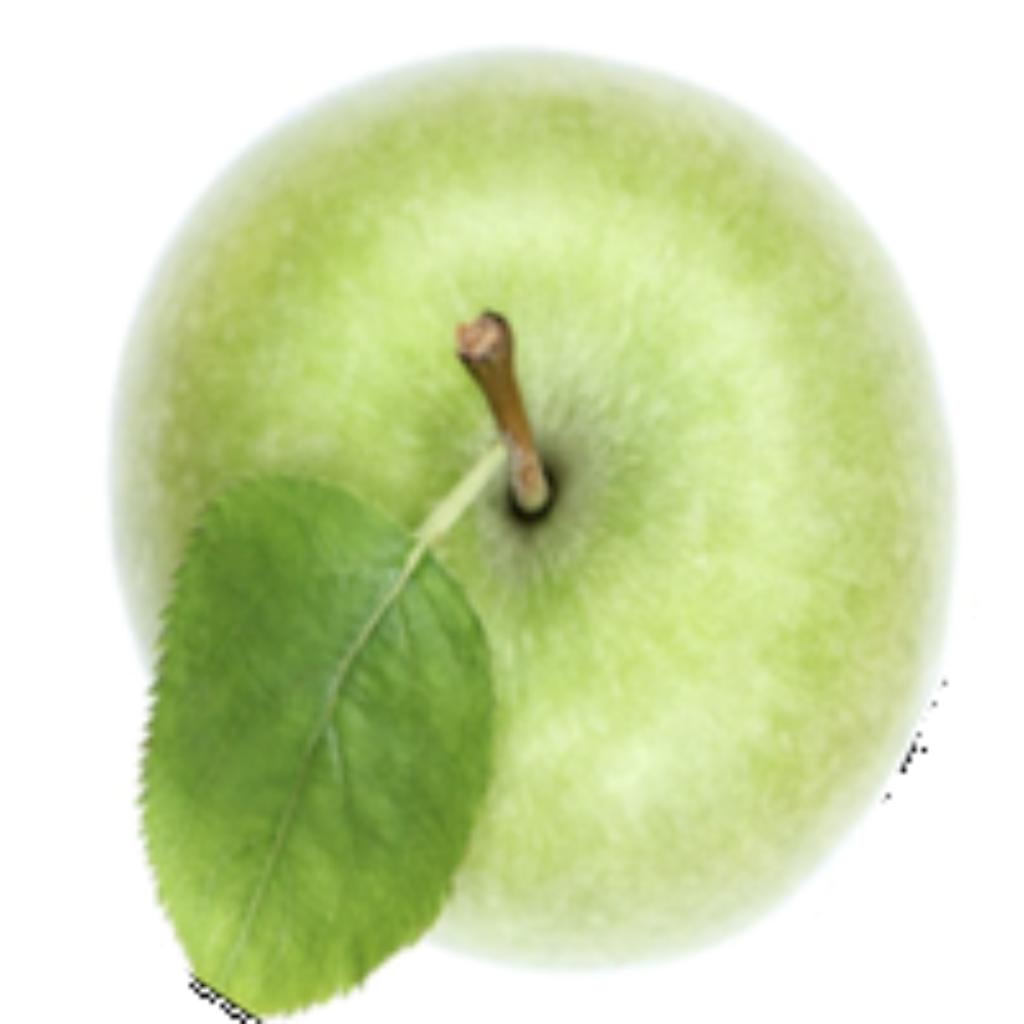apple: (97, 41, 957, 1019)
